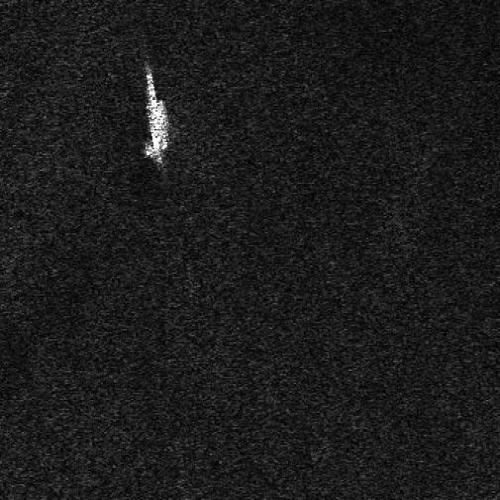ship: (143, 66, 170, 168)
